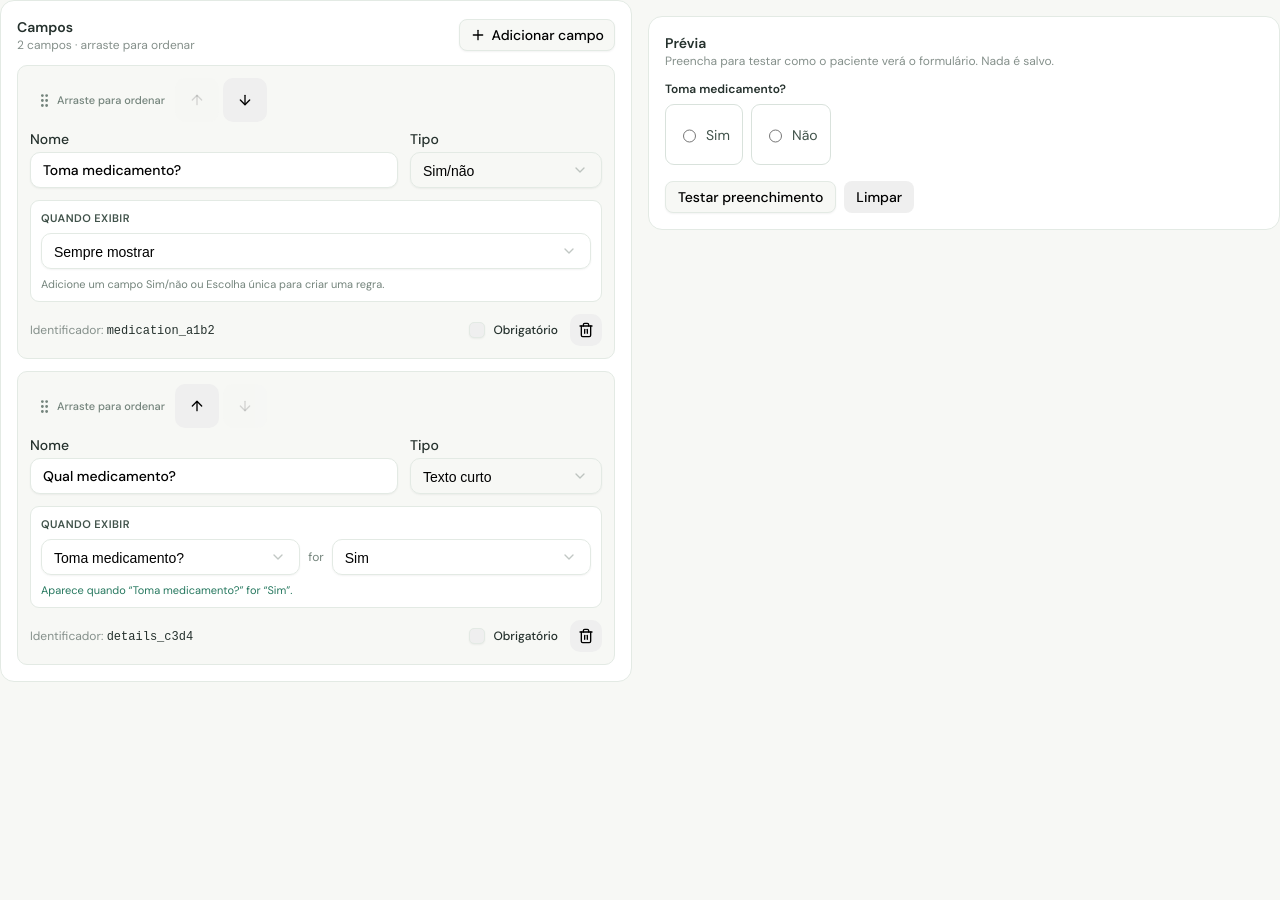
Scenario: SchemaEditor order › applies visibility rules in the preview
Click the radio button labelled "Sim" at (690, 136), box x1=683 y1=116 x2=696 y2=156
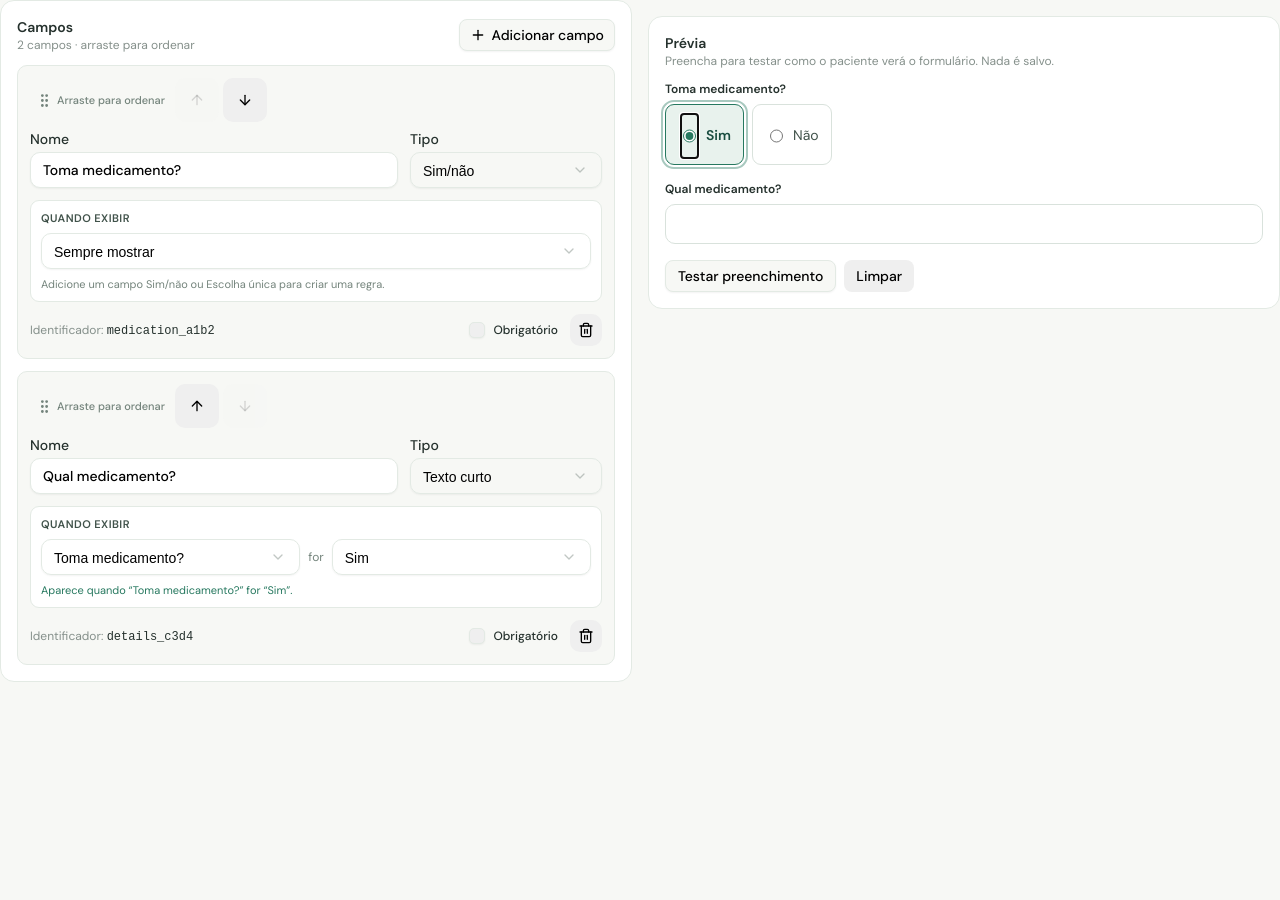
Result: the field labelled "Qual medicamento?" is shown at x1=665 y1=204 x2=1263 y2=244
